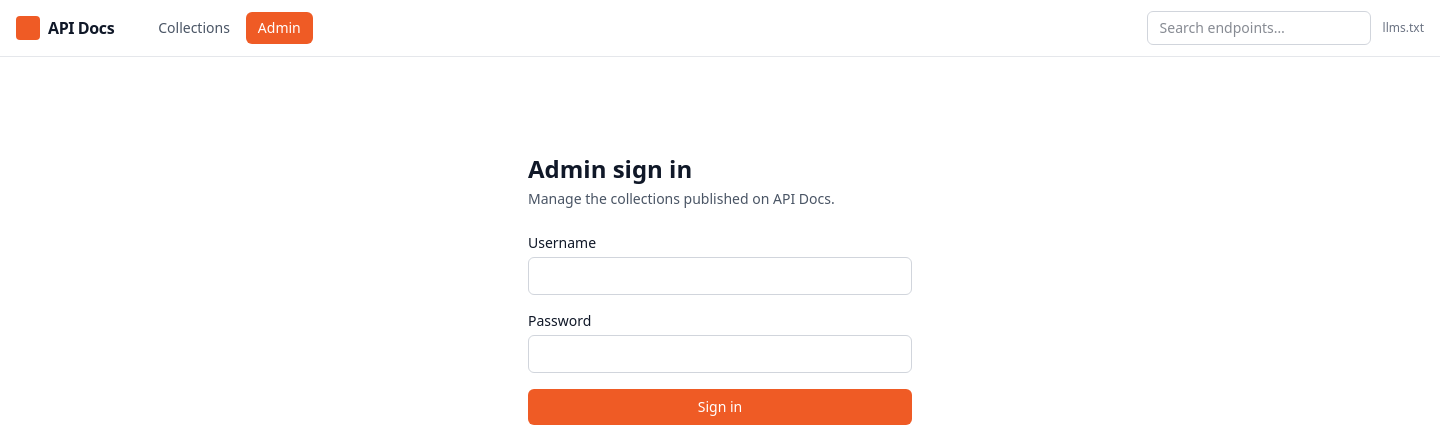
Scenario: login stores the session and shows the collections table
This screenshot has width=1440, height=442.
In the field labelled "Username": {"x": 720, "y": 276} x1=528 y1=257 x2=912 y2=295, type "admin"
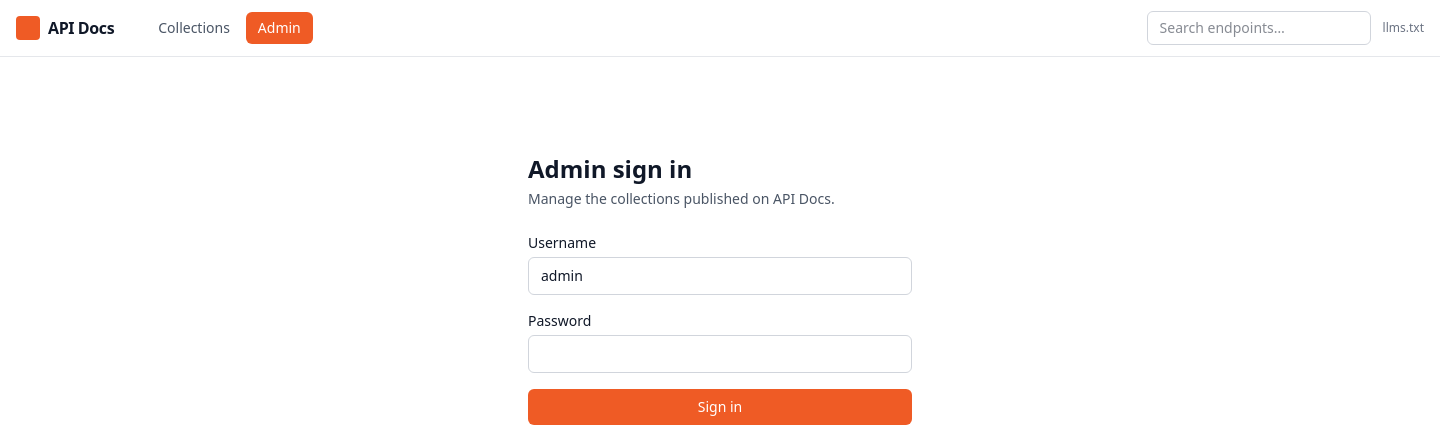
In the password field labelled "Password": {"x": 720, "y": 354} x1=528 y1=335 x2=912 y2=373, type "secret"
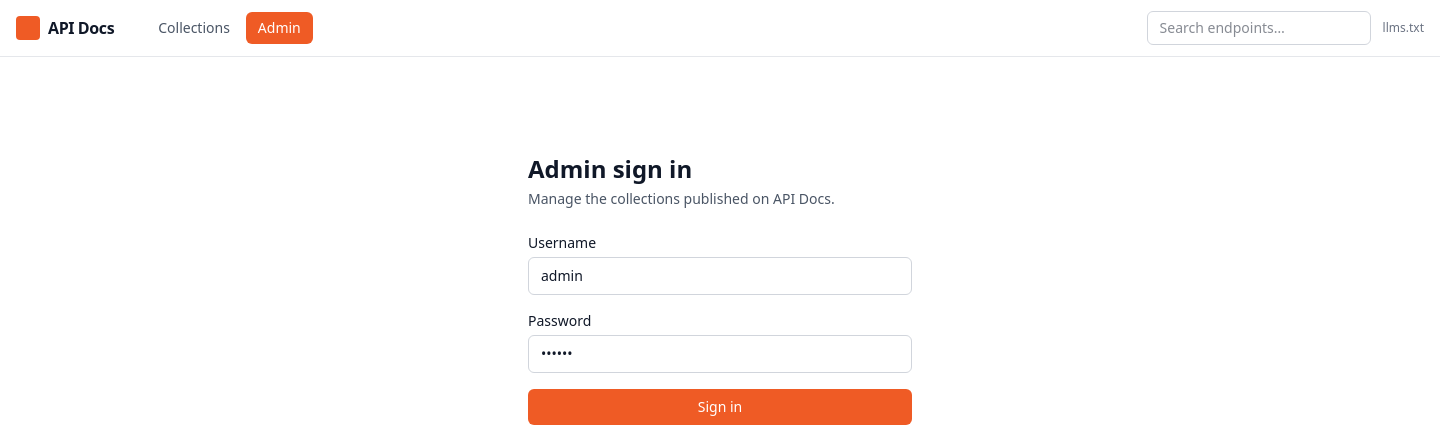
Submit the form "Sign in", box x1=528 y1=233 x2=912 y2=425
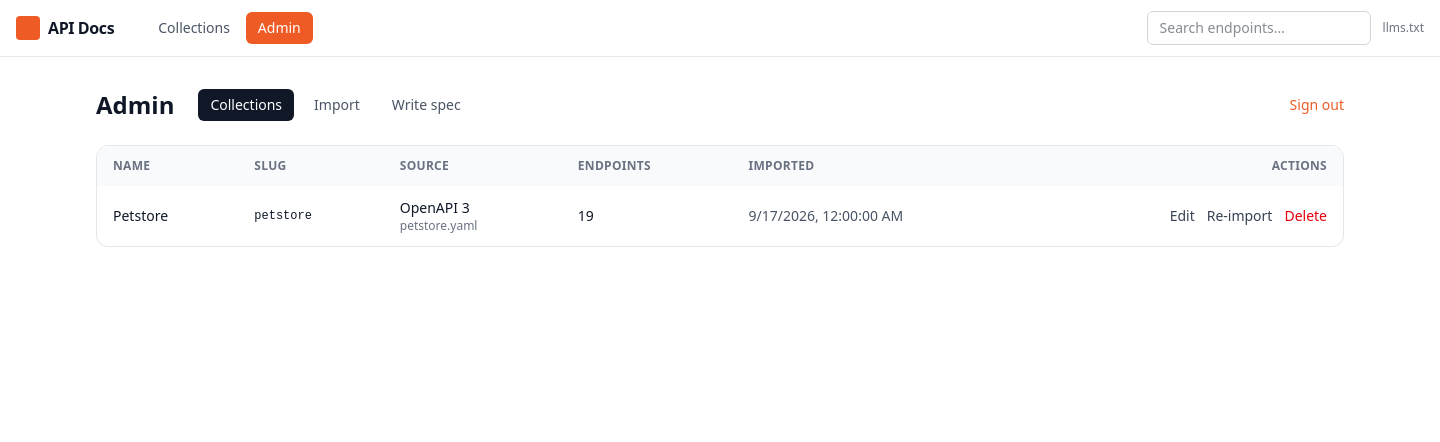
Expected: the heading "Admin" is shown, x1=96 y1=89 x2=174 y2=121
Expected: the text "petstore" is shown, x1=238 y1=186 x2=384 y2=246
